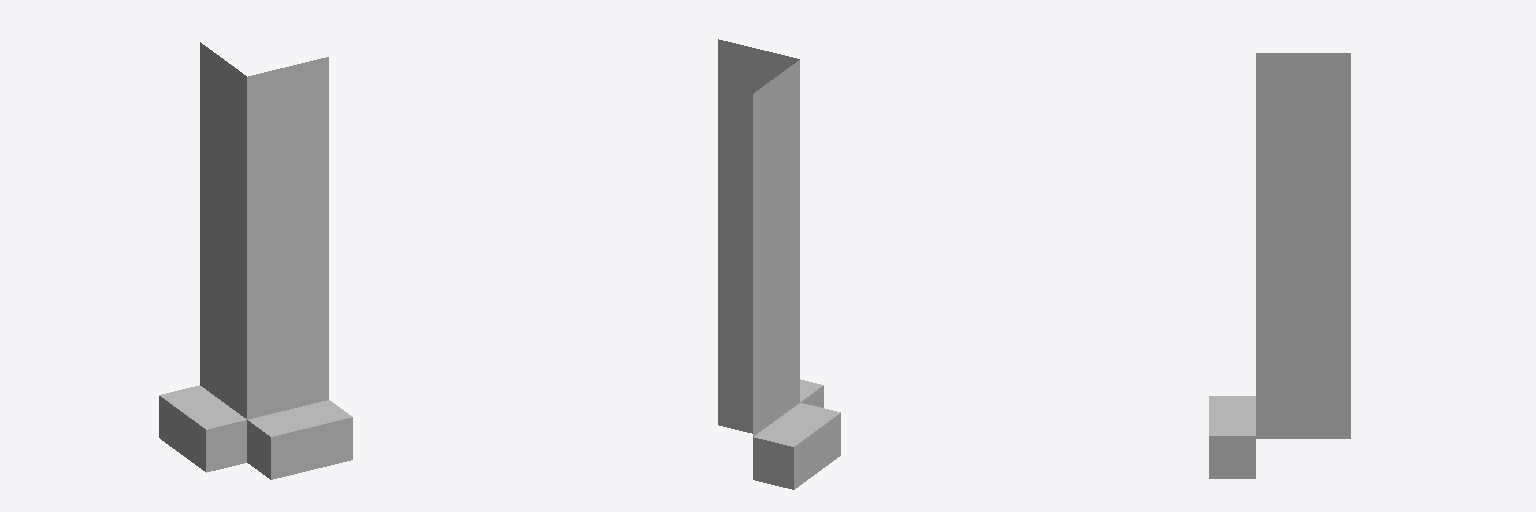
The model's file is wooden_wall_corner_outer.obj.
The picture shows the model from 3 angles: view 1: azimuth 30°, elevation 25°; view 2: azimuth 150°, elevation 25°; view 3: azimuth 270°, elevation 25°; orthographic projection.
Parts seen in each view (by area): view 1: Cube.002_Cube.012, Cube.001_Cube.011; view 2: Cube.001_Cube.011, Cube.002_Cube.012; view 3: Cube.001_Cube.011, Cube.002_Cube.012.
Boxes of the visible parts, box(x1,y1,x2,y2) form: Cube.002_Cube.012: box(247, 57, 352, 479); Cube.001_Cube.011: box(159, 42, 246, 472); Cube.001_Cube.011: box(753, 60, 840, 489); Cube.002_Cube.012: box(718, 39, 823, 433); Cube.001_Cube.011: box(1256, 53, 1350, 438); Cube.002_Cube.012: box(1209, 396, 1255, 478).
Size of the model in its own units: 3 by 9 by 3.